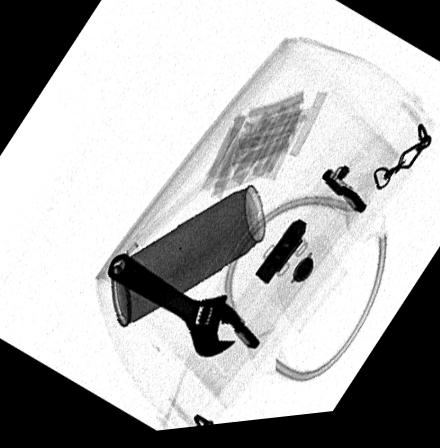Wrench: (106, 254, 264, 364)
